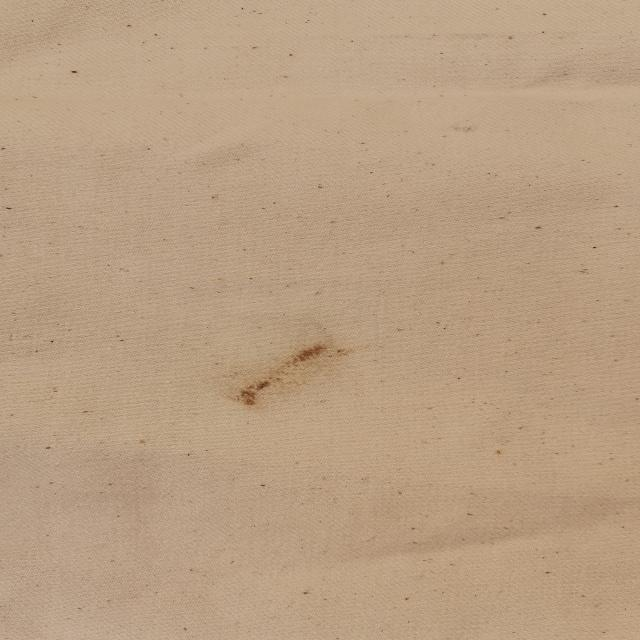taaaches: (205, 326, 380, 421)
